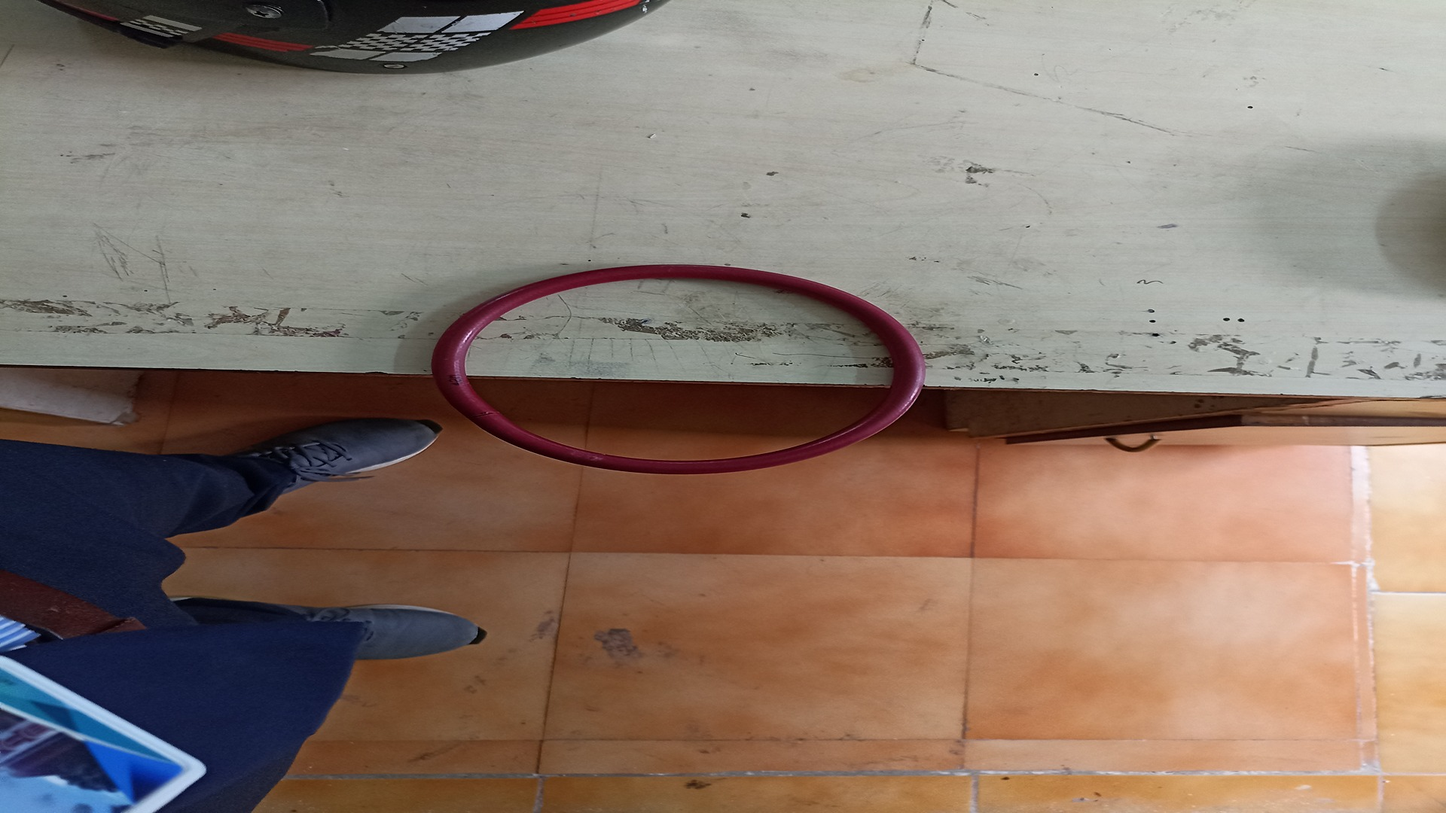Red ring: (432, 265, 929, 474)
